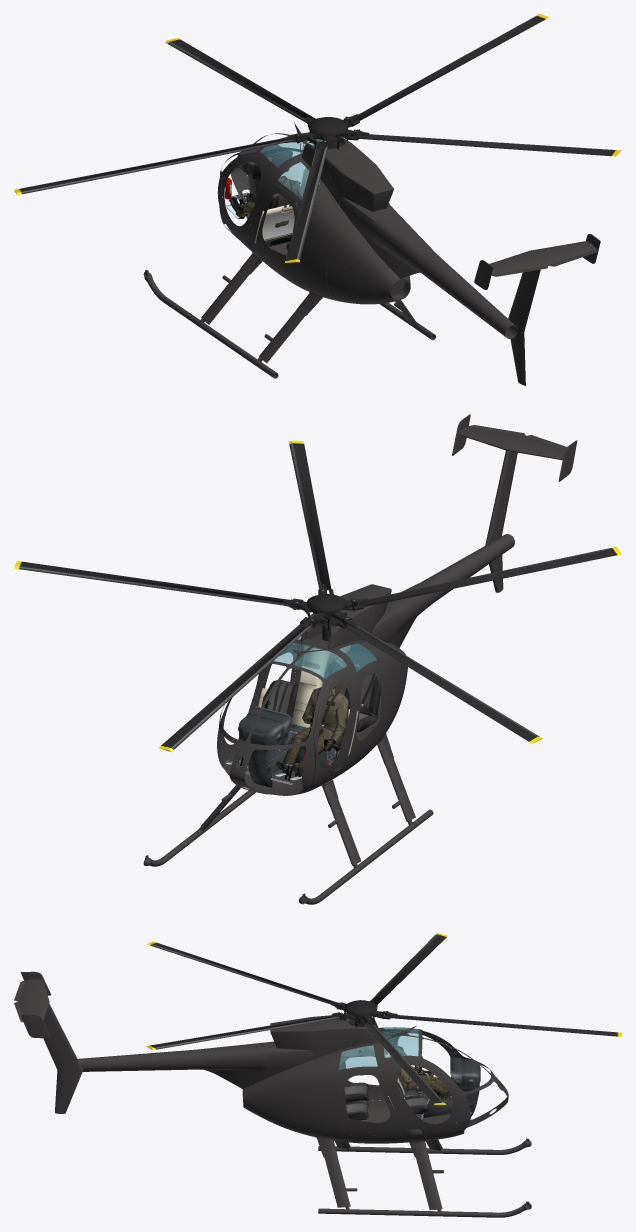
The model's file is md5_int6.glb.
The picture shows the model from 3 angles, top to bottom: view 1: azimuth 30°, elevation 25°; view 2: azimuth 150°, elevation 25°; view 3: azimuth 270°, elevation 25°; orthographic projection. The views are drawn at different scales.
Parts seen in each view (by area): view 1: boom, body, rotor_blades, skids, ixt_console, doors, glass, rotor_hub, ixt_pilot; view 2: rotor_blades, boom, body, ixt_console, skids, doors, ixt_pilot, glass, ixt_seatsL, ixt_seatsR, rotor_hub; view 3: boom, body, rotor_blades, skids, doors, ixt_console, glass, ixt_seatsR, ixt_pilot, rotor_hub, ixt_seatsL.
Boxes of the visible parts, x1,y1,x2,y2 form: boom: [300, 136, 600, 385]; body: [217, 132, 410, 304]; rotor_blades: [14, 14, 621, 262]; skids: [143, 252, 435, 378]; ixt_console: [225, 144, 319, 250]; doors: [222, 140, 323, 277]; glass: [260, 139, 323, 200]; rotor_hub: [308, 117, 347, 149]; ixt_pilot: [230, 176, 300, 227]; rotor_blades: [14, 440, 621, 751]; boom: [299, 414, 577, 654]; body: [217, 635, 407, 795]; ixt_console: [238, 645, 358, 787]; skids: [143, 733, 433, 904]; doors: [221, 646, 383, 782]; ixt_pilot: [276, 687, 348, 779]; glass: [273, 637, 376, 678]; ixt_seatsL: [304, 664, 380, 751]; ixt_seatsR: [261, 663, 337, 724]; rotor_hub: [306, 593, 346, 640]; boom: [14, 971, 381, 1113]; body: [242, 1027, 508, 1143]; rotor_blades: [146, 933, 621, 1104]; skids: [316, 1136, 531, 1217]; doors: [339, 1030, 456, 1135]; ixt_console: [339, 1045, 480, 1135]; glass: [339, 1027, 418, 1070]; ixt_seatsR: [339, 1082, 428, 1120]; ixt_pilot: [360, 1046, 448, 1095]; rotor_hub: [344, 1000, 377, 1027]; ixt_seatsL: [339, 1053, 425, 1102].
Size of the model in its own units: 7.65 by 3.42 by 9.3.
11 materials, 8 textured.
